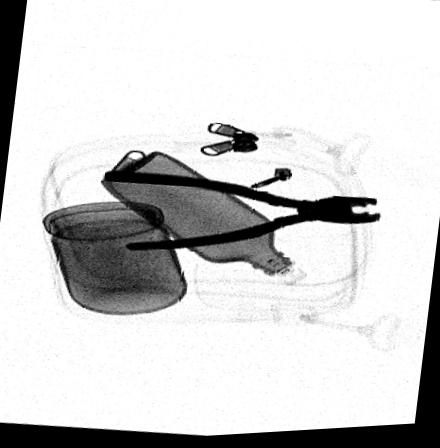Pliers: (104, 169, 381, 252)
